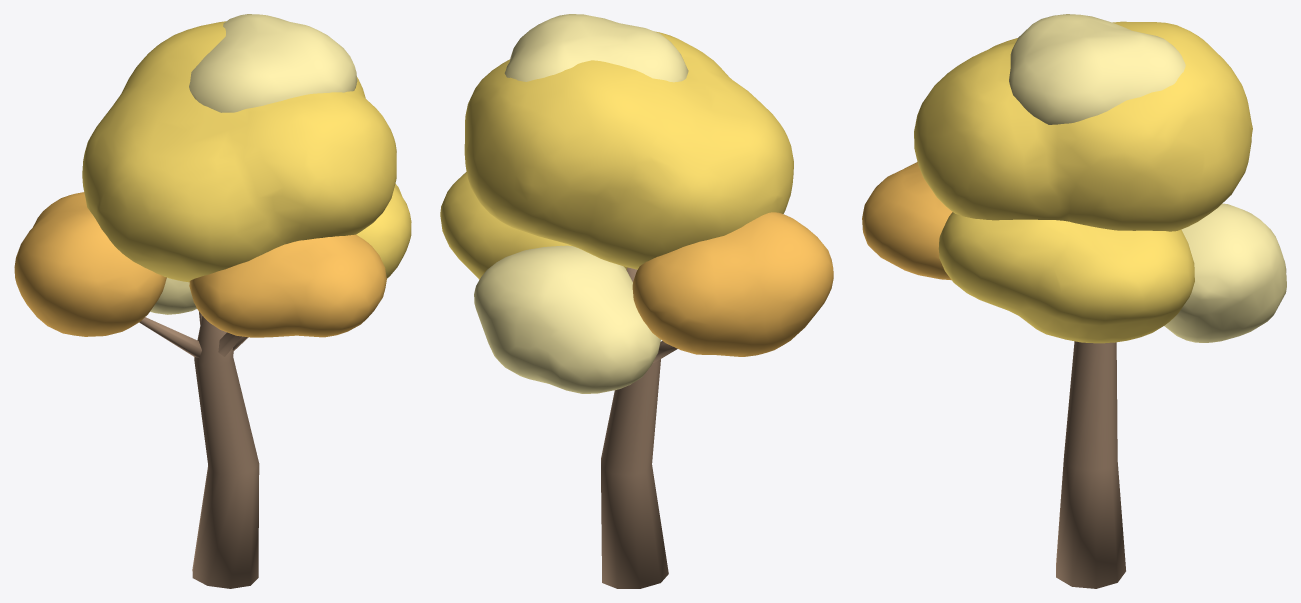
Rendered from ginkgo_a.glb.
3 views of the same model, side by side, from view 1: azimuth 30°, elevation 25°; view 2: azimuth 150°, elevation 25°; view 3: azimuth 270°, elevation 25° (orthographic). The views are drawn at different scales.
Visible parts, largest first — view 1: Crown0, Crown4, Crown1, Trunk, Crown5, Crown2, Crown3, Branch1; view 2: Crown0, Crown1, Crown3, Trunk, Crown5, Crown2; view 3: Crown0, Crown2, Crown5, Trunk, Crown3, Crown4.
Part boxes in pixels (<box>): Crown0: <box>82,21,396,282</box>; Crown4: <box>189,234,386,337</box>; Crown1: <box>14,192,166,336</box>; Trunk: <box>192,316,259,588</box>; Crown5: <box>189,14,357,112</box>; Crown2: <box>356,184,411,278</box>; Crown3: <box>150,277,196,314</box>; Branch1: <box>139,317,201,358</box>; Crown0: <box>464,31,793,269</box>; Crown1: <box>632,212,833,356</box>; Crown3: <box>474,245,660,393</box>; Trunk: <box>601,267,668,588</box>; Crown5: <box>504,14,688,82</box>; Crown2: <box>440,172,627,279</box>; Crown0: <box>914,21,1252,231</box>; Crown2: <box>938,212,1194,343</box>; Crown5: <box>1009,14,1185,124</box>; Trunk: <box>1056,341,1125,588</box>; Crown3: <box>1164,203,1286,342</box>; Crown4: <box>862,162,952,280</box>.
Size of the model in its own units: 4.22 by 5.87 by 3.99.
